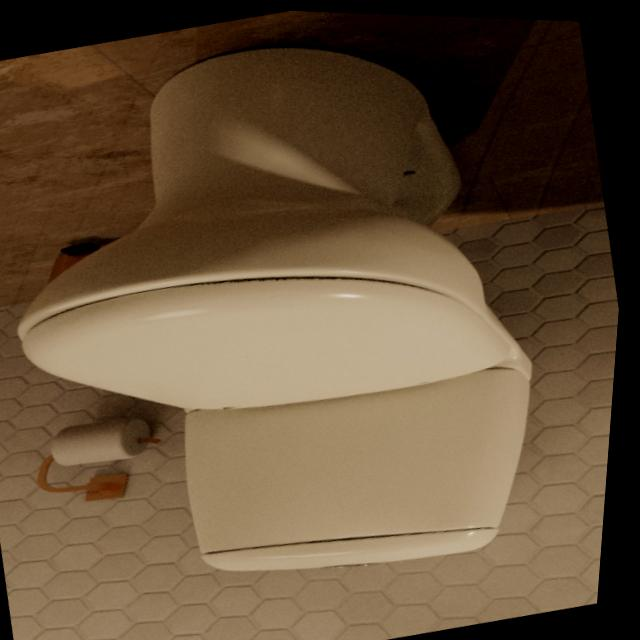toilet: (0, 0, 593, 636)
